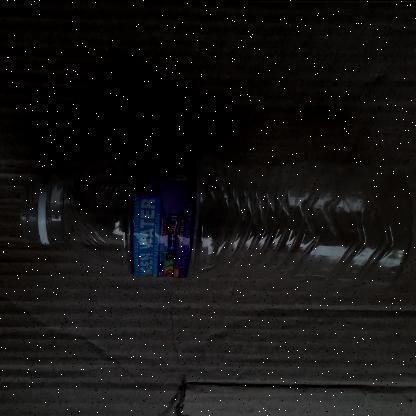Plastic Bottle: (21, 150, 416, 281)
